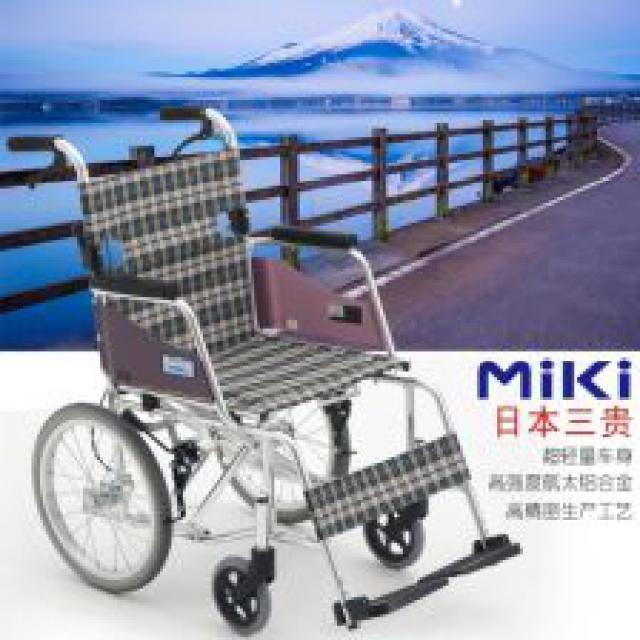wheelchair: (9, 103, 528, 632)
